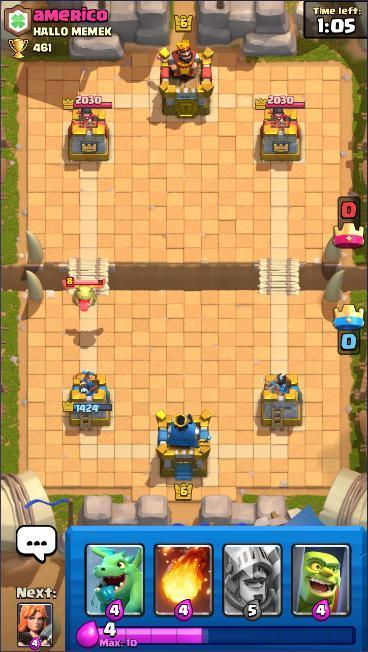enemy_baby_dragon: (59, 274, 109, 315)
